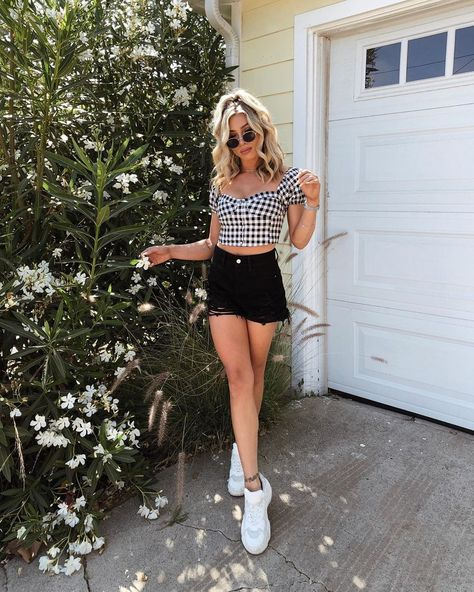person: (136, 74, 329, 570)
